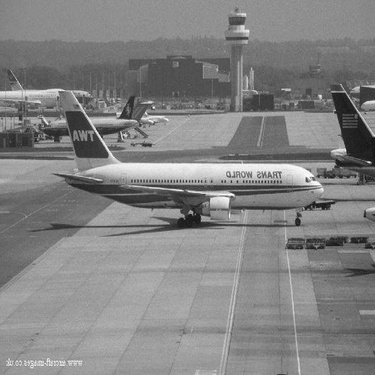airplane: (1, 86, 314, 225), (7, 101, 172, 146), (1, 65, 112, 107)
